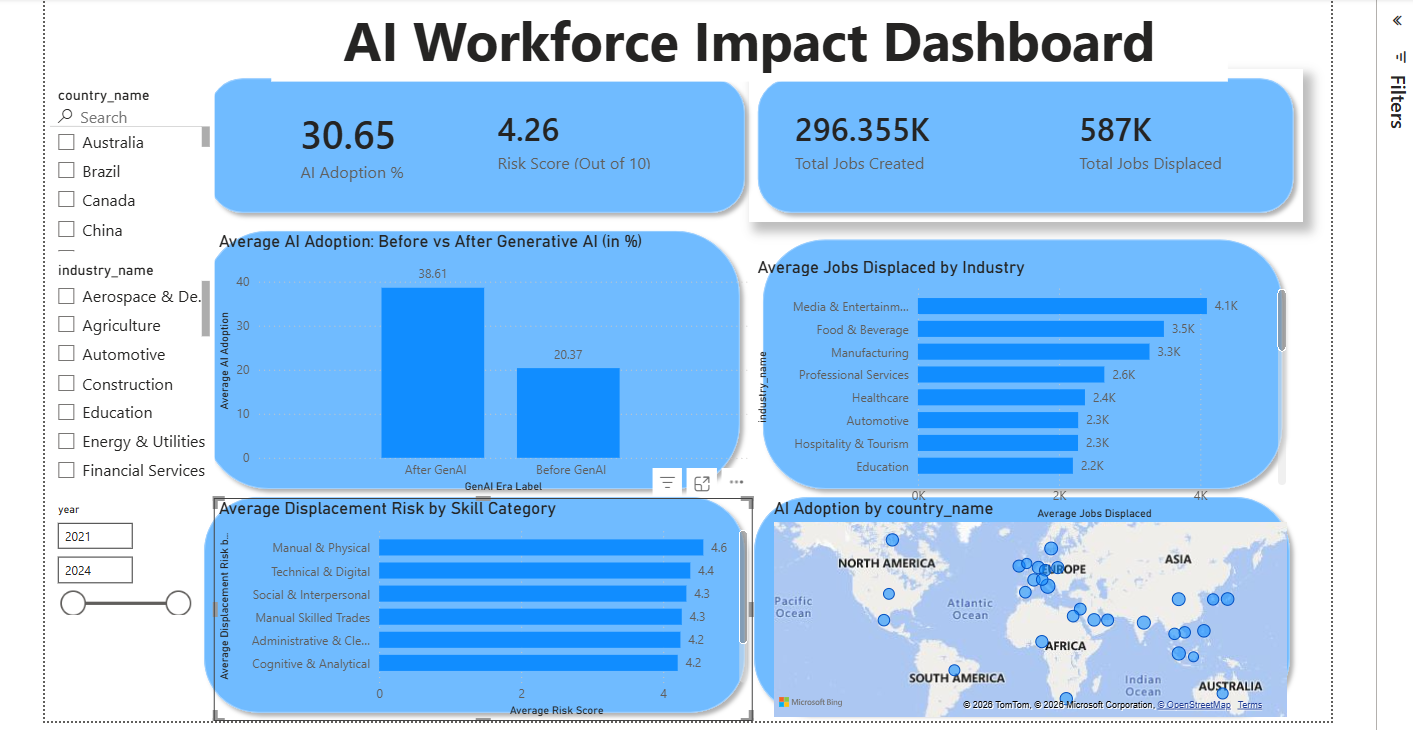

Layout of this report page (visuals, bound fields, positions):
{"tool":"powerbi","page":{"name":"Page 1","canvas":[1280,720],"ordinal":0},"visuals":[{"type":"group","id":"g1","title":"Background","box":[149.3,70.9,1102.1,649.3],"z":0},{"type":"shape","box":[154.3,70.9,551.1,151.8],"z":0,"group":"g1"},{"type":"shape","box":[700.4,70.9,551.1,151.8],"z":1000,"group":"g1"},{"type":"cardVisual","fields":{"Data":["dim_country_clean.Average AI Adoption"]},"box":[225.2,88.3,240.1,116.9],"z":1000},{"type":"cardVisual","fields":{"Data":["dim_country_clean.Average Displacement Risk"]},"box":[409.3,83.3,253.8,116.9],"z":2000},{"type":"shape","box":[149.3,222.7,551.1,274.9],"z":2000,"group":"g1"},{"type":"cardVisual","fields":{"Data":["dim_country_clean.Total Jobs Created"]},"box":[705.3,83.3,271.2,116.9],"z":3000},{"type":"shape","box":[705.3,231.4,534.9,266.2],"z":3000,"group":"g1"},{"type":"cardVisual","fields":{"Data":["dim_country_clean.Total Jobs Displaced"]},"box":[1000.1,83.3,269.9,116.9],"z":4000},{"type":"shape","box":[149.3,487.6,556,232.6],"z":4000,"group":"g1"},{"type":"clusteredColumnChart","title":"Average AI Adoption: Before vs After Generative AI (in %)","fields":{"Y":["dim_country_clean.Average AI Adoption"],"Category":["dim_date_clean.GenAI Era Label"]},"box":[167.9,231.4,536.1,266.2],"z":5000},{"type":"shape","box":[696.6,487.6,551.1,232.6],"z":5000,"group":"g1"},{"type":"clusteredBarChart","title":"Average Jobs Displaced by Industry","fields":{"Category":["dim_industry_clean.industry_name"],"Y":["dim_industry_clean.Average Jobs Displaced"]},"box":[704.1,257.5,536.1,266.2],"z":6000},{"type":"clusteredBarChart","title":"Average Displacement Risk by Skill Category","fields":{"Category":["dim_skill_category_clean.skill_category_name"],"Y":["dim_country_clean.Average Risk Score"]},"box":[167.9,497.6,536.1,222.7],"z":7000},{"type":"map","title":"AI Adoption by country_name","fields":{"Category":["dim_country_clean.country_name"],"Size":["dim_country_clean.Average AI Adoption"]},"box":[720.3,497.6,521.2,222.7],"z":8000},{"type":"slicer","fields":{"Values":["dim_country_clean.country_name"]},"box":[0,83.3,169.2,174.2],"z":9000},{"type":"slicer","fields":{"Values":["dim_industry_clean.industry_name"]},"box":[0,257.5,169.2,230.1],"z":10000},{"type":"slicer","fields":{"Values":["dim_date_clean.year"]},"box":[0,497.6,154.3,116.9],"z":11000},{"type":"textbox","box":[225.2,0,951.6,83.3],"z":12000}]}

Visuals, with their boxes in screenshot pixels (x1, y1, x2, y2):
"Background" group: (201, 67, 1300, 715)
shape: (206, 67, 755, 219)
shape: (750, 67, 1300, 219)
cardVisual - dim_country_clean.Average AI Adoption: (276, 84, 516, 201)
cardVisual - dim_country_clean.Average Displacement Risk: (460, 79, 713, 196)
shape: (201, 219, 750, 493)
cardVisual - dim_country_clean.Total Jobs Created: (755, 79, 1026, 196)
shape: (755, 227, 1289, 493)
cardVisual - dim_country_clean.Total Jobs Displaced: (1050, 79, 1319, 196)
shape: (201, 483, 755, 715)
"Average AI Adoption: Before vs After Generative AI (in %)" clusteredColumnChart: (219, 227, 754, 493)
shape: (747, 483, 1297, 715)
"Average Jobs Displaced by Industry" clusteredBarChart: (754, 253, 1289, 519)
"Average Displacement Risk by Skill Category" clusteredBarChart: (219, 493, 754, 715)
"AI Adoption by country_name" map: (770, 493, 1290, 715)
slicer - dim_country_clean.country_name: (52, 79, 220, 253)
slicer - dim_industry_clean.industry_name: (52, 253, 220, 483)
slicer - dim_date_clean.year: (52, 493, 206, 610)
textbox: (276, 0, 1226, 79)
